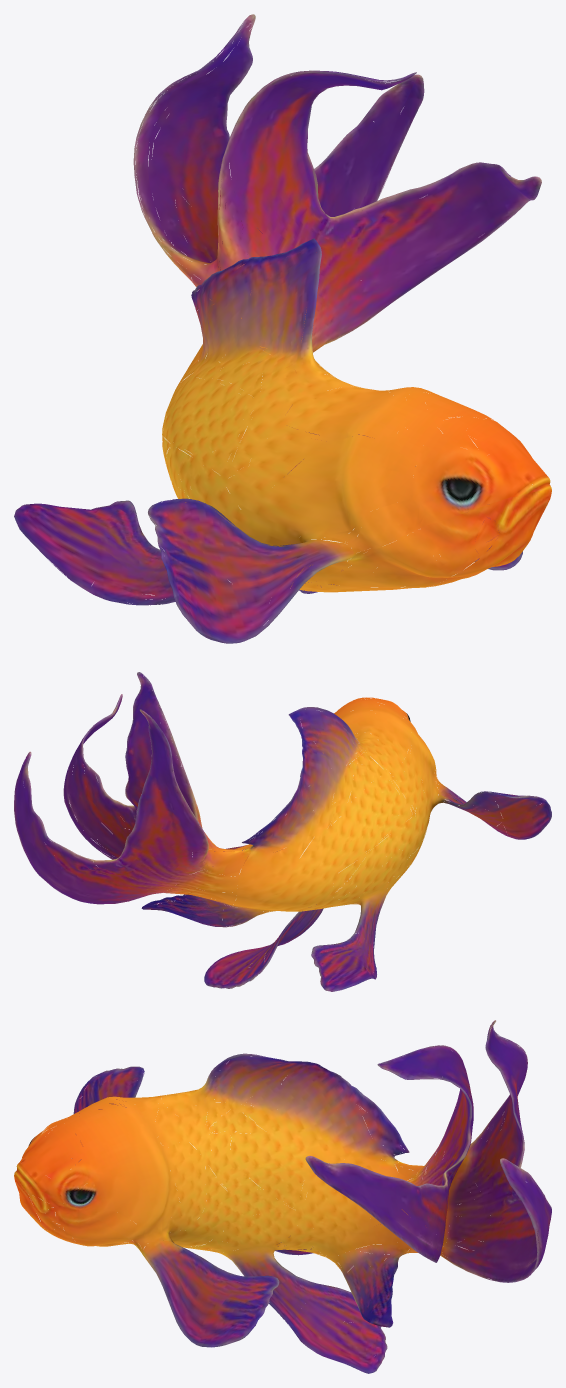
File: peixe dourado para presente maior que a rosa.glb
The picture shows the model from 3 angles, top to bottom: view 1: azimuth 30°, elevation 25°; view 2: azimuth 150°, elevation 25°; view 3: azimuth 270°, elevation 25°; orthographic projection. The views are drawn at different scales.
Parts seen in each view (by area): view 1: G_Fish67; view 2: G_Fish67; view 3: G_Fish67.
Part boxes in pixels (x1,y1,x2,y2): G_Fish67: (14,14,551,643); G_Fish67: (14,672,551,991); G_Fish67: (14,1020,551,1373).
Size of the model in its own units: 6.41 by 5.42 by 7.36.
Materials: 1 (1 with a texture image).
